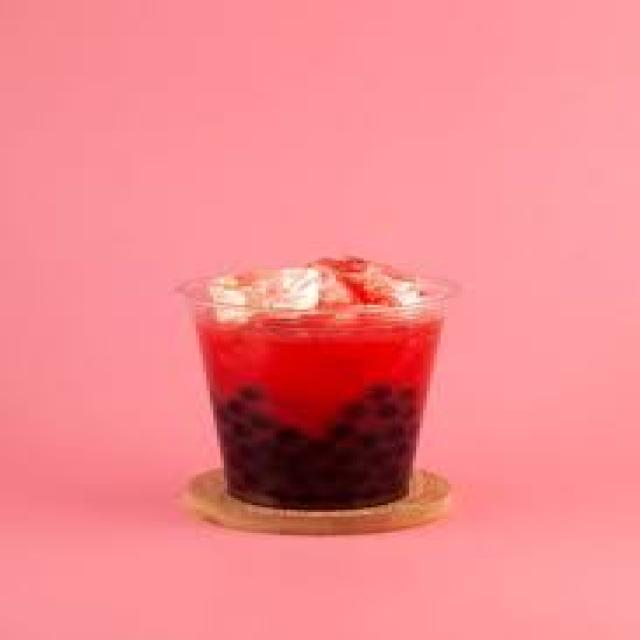bottle: (182, 257, 449, 510)
